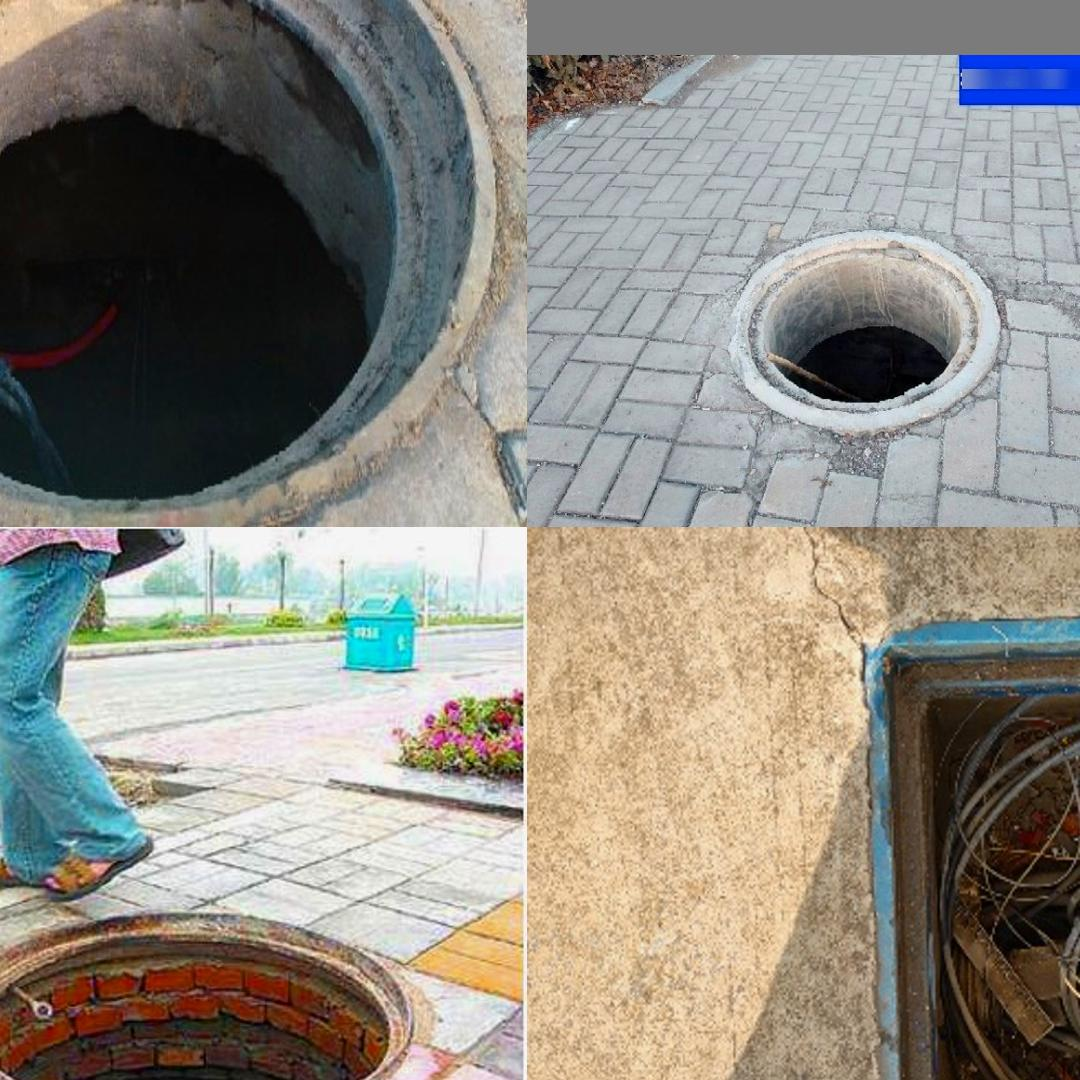lose: (0, 0, 499, 527), (862, 601, 1080, 1080), (0, 913, 417, 1080), (731, 228, 1001, 412)
